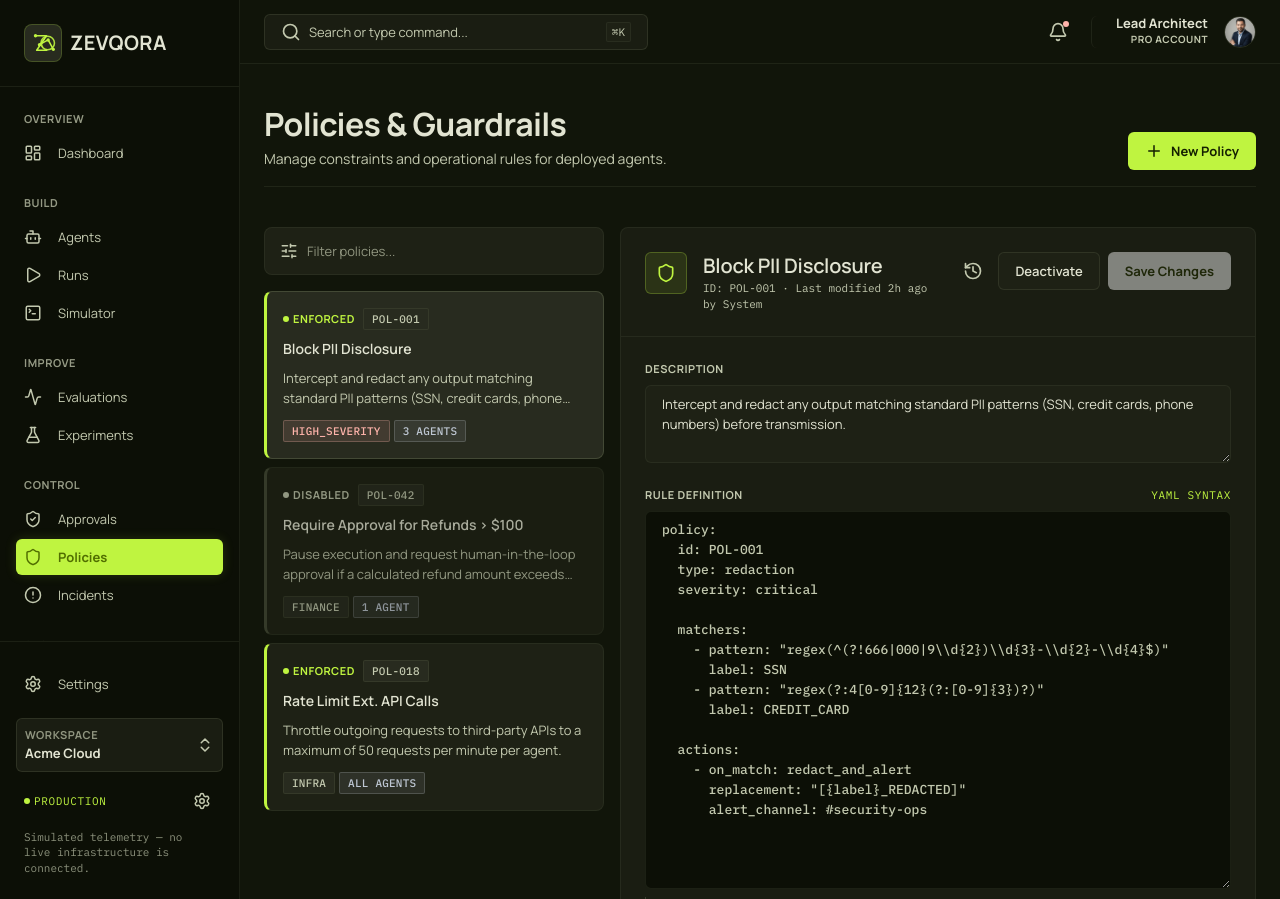
Policies › switching selection swaps the detail pane
Expected: the heading "Block PII Disclosure" is shown, [703,252,883,279]
Click the button "Require Approval for Refunds" at (434, 551), box [264,467,604,635]
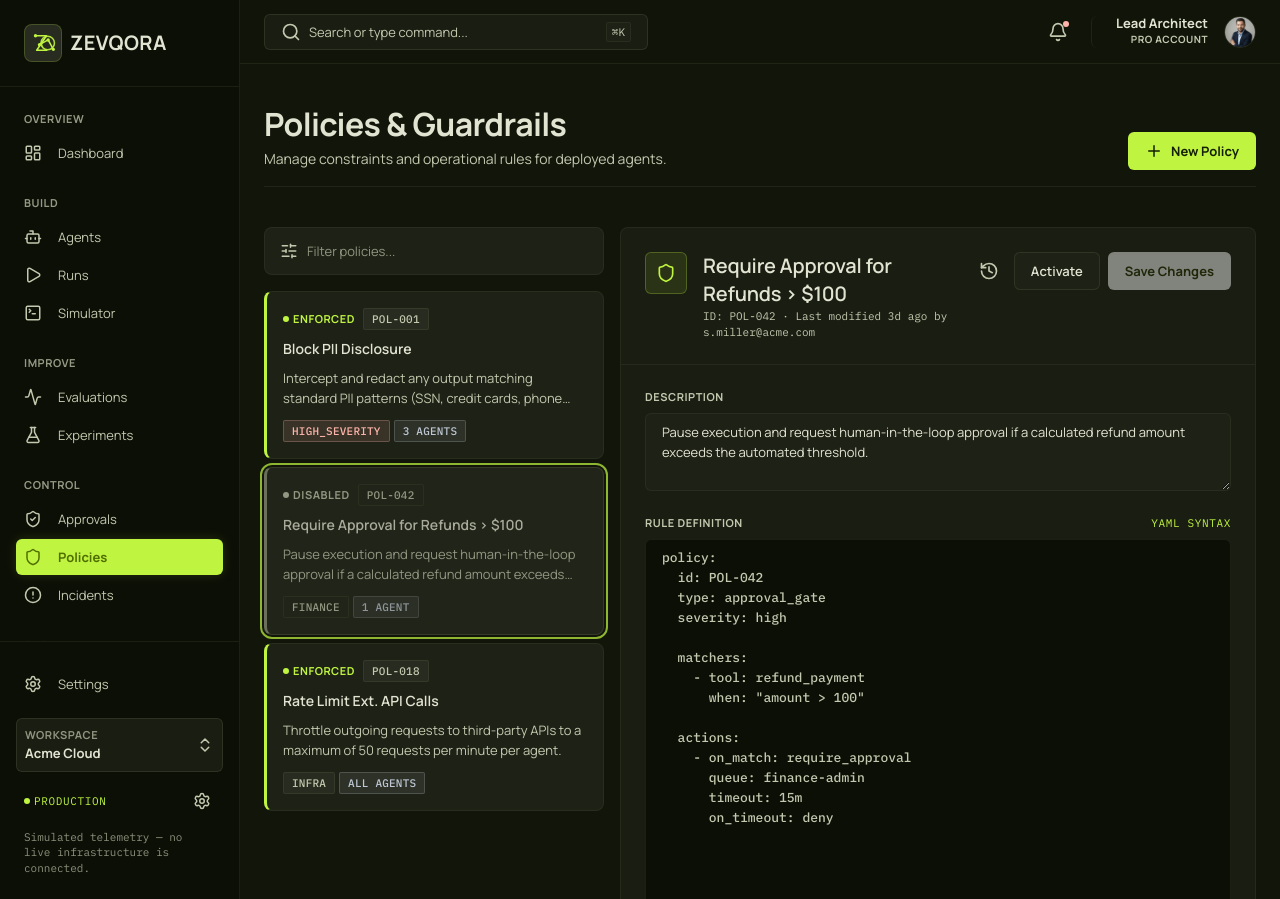
Now the heading "Require Approval for Refunds > $100" is shown, box [703,252,892,307]
